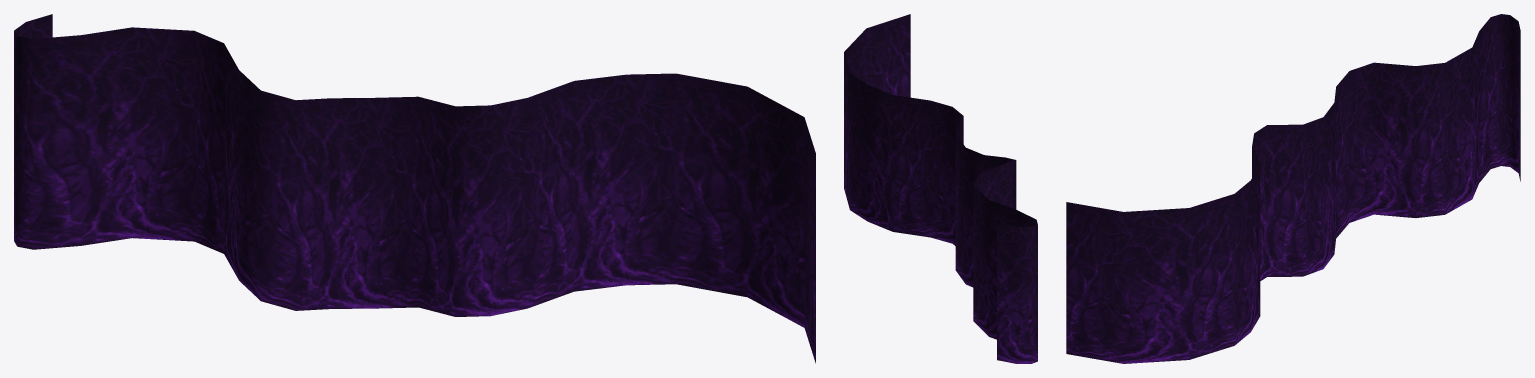
File: EKH_ENTRANCE_PS_EN_TREEWALL3939847.fbx
The picture shows the model from 3 angles, left to right: view 1: azimuth 30°, elevation 25°; view 2: azimuth 150°, elevation 25°; view 3: azimuth 270°, elevation 25°; orthographic projection. The views are drawn at different scales.
Visible parts, largest first — view 1: EKH_ENTRANCE_PS_EN_TREEWALL3939847; view 2: EKH_ENTRANCE_PS_EN_TREEWALL3939847; view 3: EKH_ENTRANCE_PS_EN_TREEWALL3939847.
Boxes of the visible parts, x1,y1,x2,y2 form: EKH_ENTRANCE_PS_EN_TREEWALL3939847: [14, 14, 815, 363]; EKH_ENTRANCE_PS_EN_TREEWALL3939847: [844, 14, 1037, 363]; EKH_ENTRANCE_PS_EN_TREEWALL3939847: [1066, 14, 1520, 363].
Size of the model in its own units: 329017 by 143332 by 341591.
Materials: 1 (1 with a texture image).
